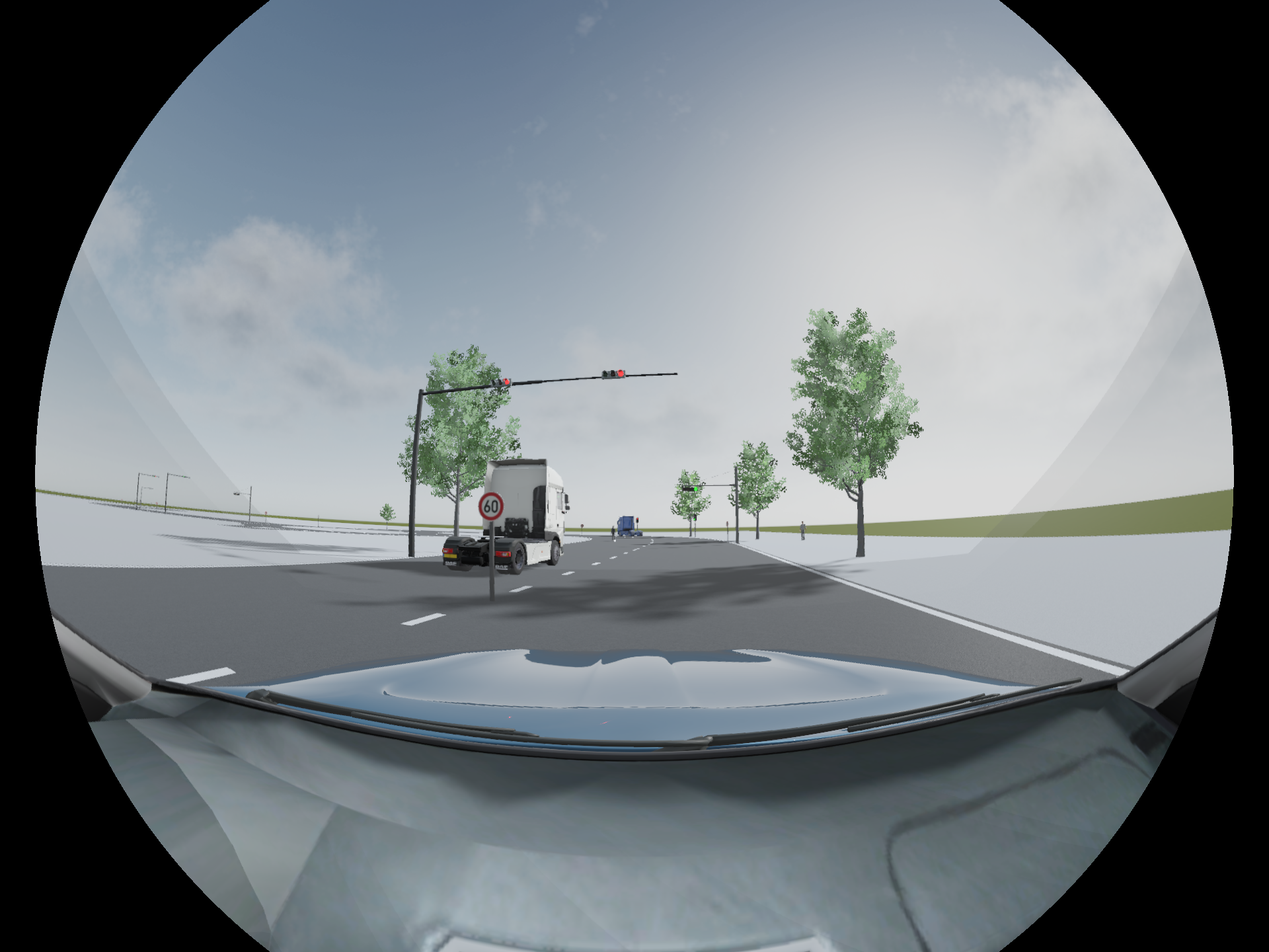Green Light: (682, 486, 698, 492)
Red Light: (600, 369, 626, 381)
Speed Limit 60: (479, 492, 504, 521)
